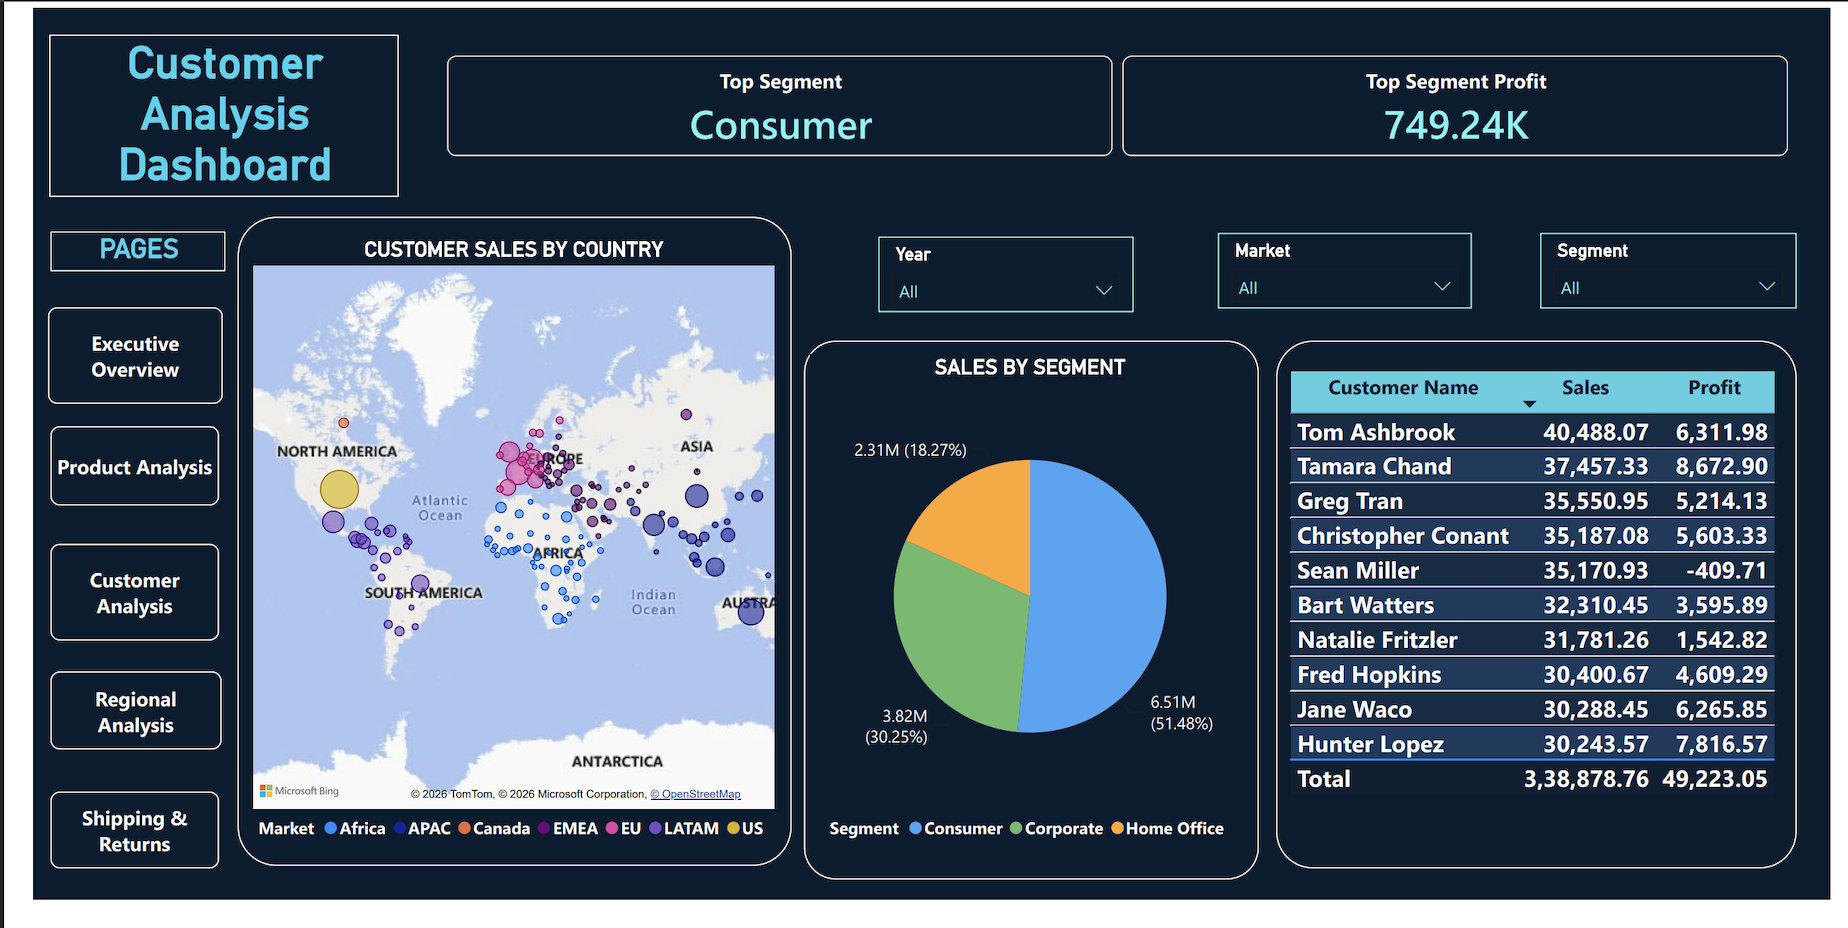

What the dashboard file says about the page in this screenshot:
{"tool":"powerbi","page":{"name":"Page 3","canvas":[1450,720],"ordinal":2},"visuals":[{"type":"shape","box":[1003.4,268.9,419.3,426.5],"z":0},{"type":"tableEx","fields":{"Values":["Orders.Customer Name","Sum(Orders.Sales)","Sum(Orders.Profit)"]},"box":[1009.2,289.2,406.3,375.9],"z":1000},{"type":"shape","box":[621.7,268.9,367.2,435.2],"z":2000},{"type":"pieChart","title":"SALES BY SEGMENT","fields":{"Category":["Orders.Segment"],"Y":["Sum(Orders.Sales)"]},"box":[627.5,280.5,354.2,400.5],"z":3000},{"type":"shape","box":[164.8,169.2,446.7,523.4],"z":4000},{"type":"textbox","title":"Customer Analysis Dashboard","box":[13,21.7,281.9,131.6],"z":5000},{"type":"cardVisual","fields":{"Data":["Orders.Top Segment","Orders.Top Segment Profit"]},"box":[316.6,21.7,1116.1,115.7],"z":6000},{"type":"map","title":"CUSTOMER SALES BY COUNTRY","fields":{"Category":["Orders.Country"],"Size":["Sum(Orders.Sales)"],"Series":["Orders.Market"]},"box":[173.5,185.1,429.4,495.9],"z":7000},{"type":"slicer","fields":{"Values":["Orders.Order Date.Variation.Date Hierarchy.Year"]},"box":[682.4,185.1,205.3,60.7],"z":8000},{"type":"slicer","fields":{"Values":["Orders.Market"]},"box":[955.7,182.2,205.3,60.7],"z":9000},{"type":"slicer","fields":{"Values":["Orders.Segment"]},"box":[1215.9,182.2,206.7,60.7],"z":10000},{"type":"textbox","title":"PAGES","box":[14.5,180.7,140.2,31.8],"z":11000},{"type":"actionButton","box":[14.5,338.3,135.9,63.6],"z":12000},{"type":"actionButton","box":[14,433.4,135.6,78],"z":13000},{"type":"actionButton","box":[14.5,536.4,137.3,62.2],"z":14000},{"type":"actionButton","box":[14.5,633.3,135.9,62.2],"z":15000},{"type":"actionButton","box":[12.5,241.7,140.3,78],"z":16000}]}

Visuals, with their boxes in screenshot pixels (x1, y1, x2, y2), scaled from the page's 1450x720 canvas onto the 1848x928 screenshot:
shape: (1279, 347, 1813, 896)
tableEx - Orders.Customer Name x Sum(Orders.Sales): (1286, 373, 1804, 857)
shape: (792, 347, 1260, 908)
"SALES BY SEGMENT" pieChart: (800, 362, 1251, 878)
shape: (210, 218, 779, 893)
"Customer Analysis Dashboard" textbox: (17, 28, 376, 198)
cardVisual - Orders.Top Segment x Orders.Top Segment Profit: (404, 28, 1826, 177)
"CUSTOMER SALES BY COUNTRY" map: (221, 239, 768, 878)
slicer - Orders.Order Date.Variation.Date Hierarchy.Year: (870, 239, 1131, 317)
slicer - Orders.Market: (1218, 235, 1480, 313)
slicer - Orders.Segment: (1550, 235, 1813, 313)
"PAGES" textbox: (18, 233, 197, 274)
actionButton: (18, 436, 192, 518)
actionButton: (18, 559, 191, 659)
actionButton: (18, 691, 193, 772)
actionButton: (18, 816, 192, 896)
actionButton: (16, 312, 195, 412)
